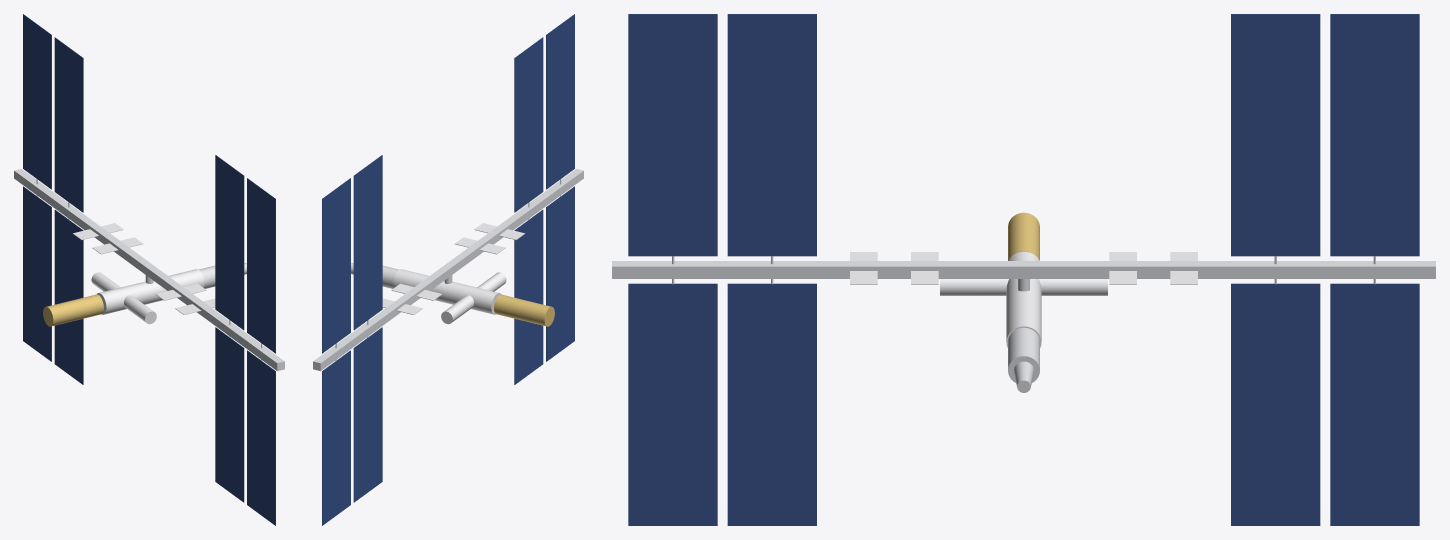
The model's file is iss.glb.
3 views of the same model, side by side, from view 1: azimuth 30°, elevation 25°; view 2: azimuth 150°, elevation 25°; view 3: azimuth 270°, elevation 25° (orthographic). The views are drawn at different scales.
Size of the model in its own units: 49.5 by 74 by 108.
